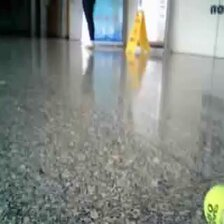tennis: (203, 185, 224, 224)
